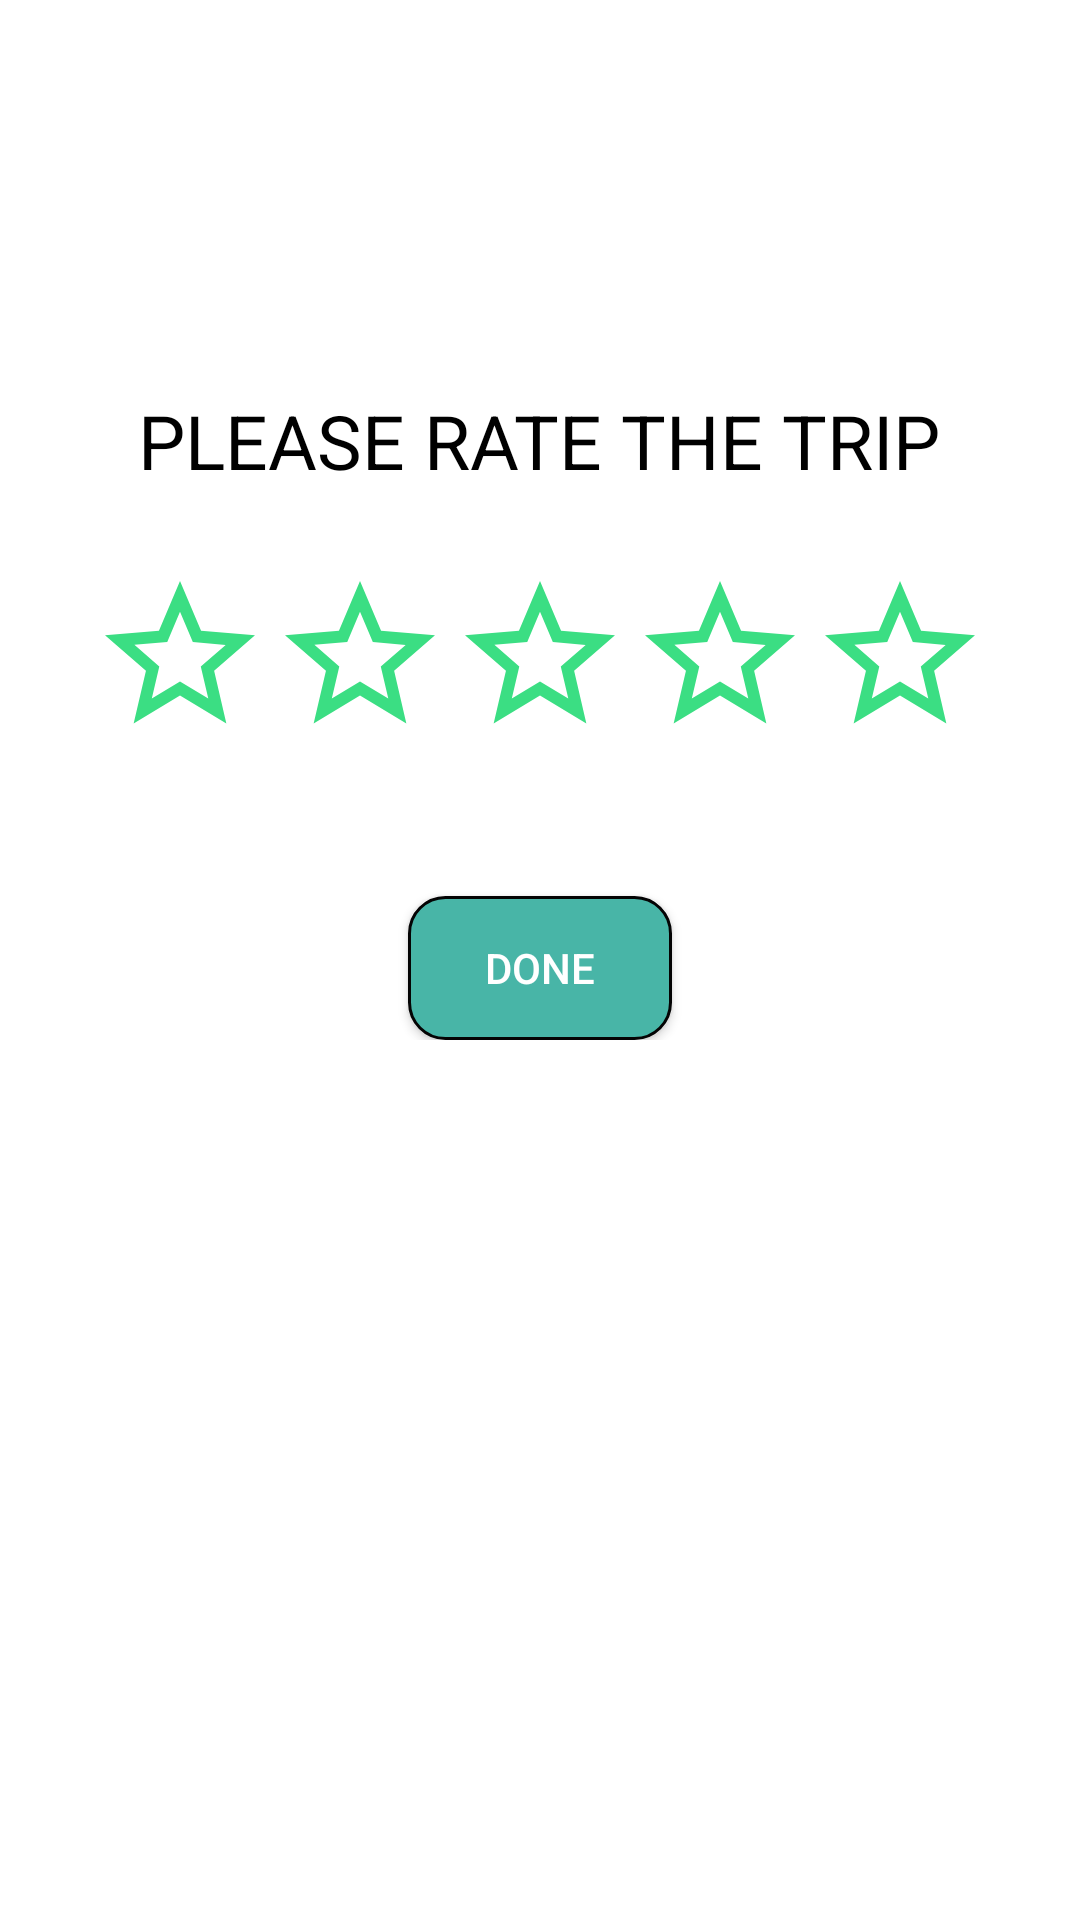

Where to tap for icons on this 1080×1920 app screen, as (x=x, y=y):
empty star: (x=180, y=652), (x=360, y=652), (x=540, y=652), (x=720, y=652), (x=900, y=652)
